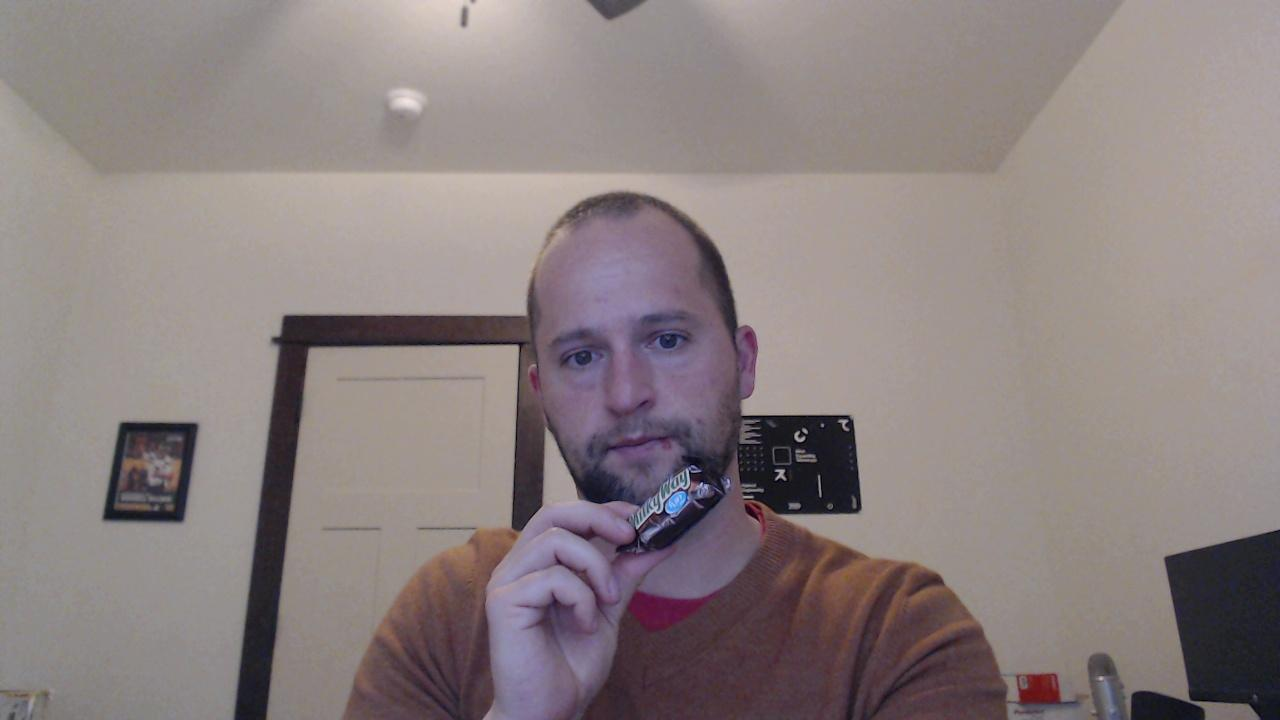milky_way: (615, 459, 735, 555)
